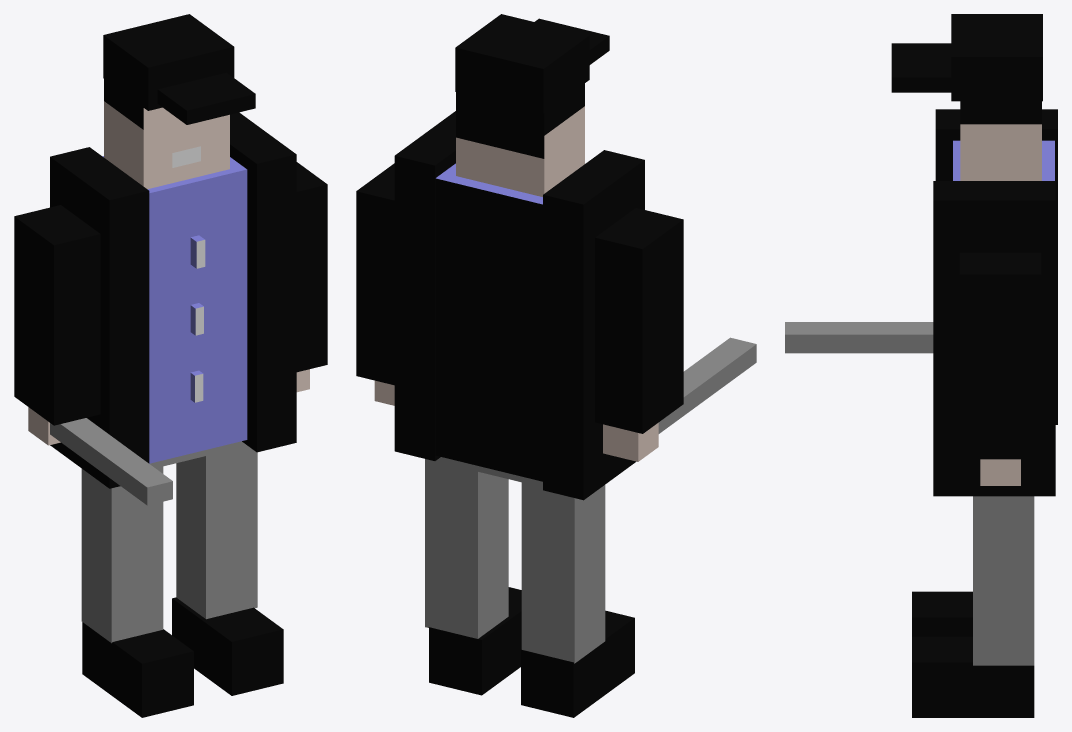
File: police.fbx
3 renders of one model, left to right at view 1: azimuth 30°, elevation 25°; view 2: azimuth 150°, elevation 25°; view 3: azimuth 270°, elevation 25°, orthographic. The views are drawn at different scales.
Visible parts, largest first — view 1: body1, leg2, hand, head; view 2: body1, leg2, hand, head; view 3: body1, hand, leg2, head.
Boxes of the visible parts, bbox=[...] form: body1: bbox=[50, 112, 296, 488]; leg2: bbox=[81, 441, 283, 717]; hand: bbox=[14, 162, 327, 505]; head: bbox=[103, 14, 255, 189]; body1: bbox=[394, 111, 644, 500]; leg2: bbox=[425, 457, 634, 717]; hand: bbox=[356, 163, 756, 461]; head: bbox=[455, 14, 609, 196]; body1: bbox=[933, 109, 1057, 496]; hand: bbox=[785, 252, 1041, 485]; leg2: bbox=[912, 496, 1034, 717]; head: bbox=[891, 14, 1042, 180].
Bounding box in the file's own units: 1.61 × 3.49 × 1.34.
